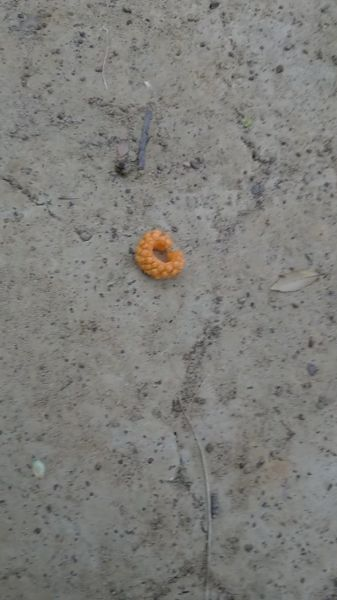eggs: (127, 216, 187, 284)
